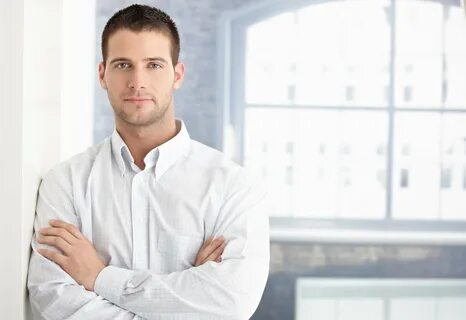awake: (26, 3, 270, 320)
